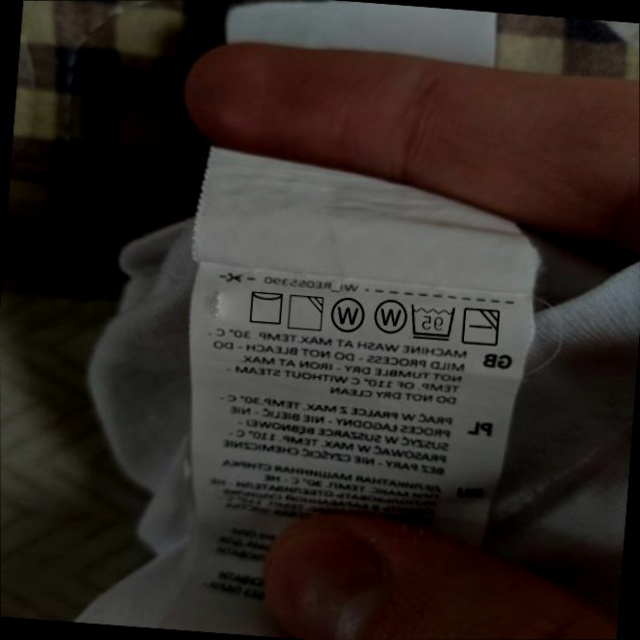95C: (407, 301, 458, 342)
dry_flat_in_shade: (460, 304, 503, 349)
line_dry: (244, 286, 286, 327)
shade_dry: (285, 291, 326, 333)
wet_clean: (370, 294, 408, 337), (328, 295, 367, 336)
